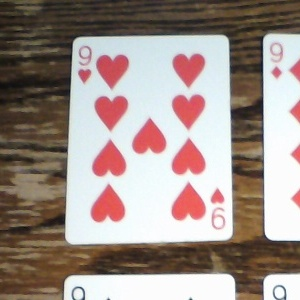card: (64, 32, 235, 243)
